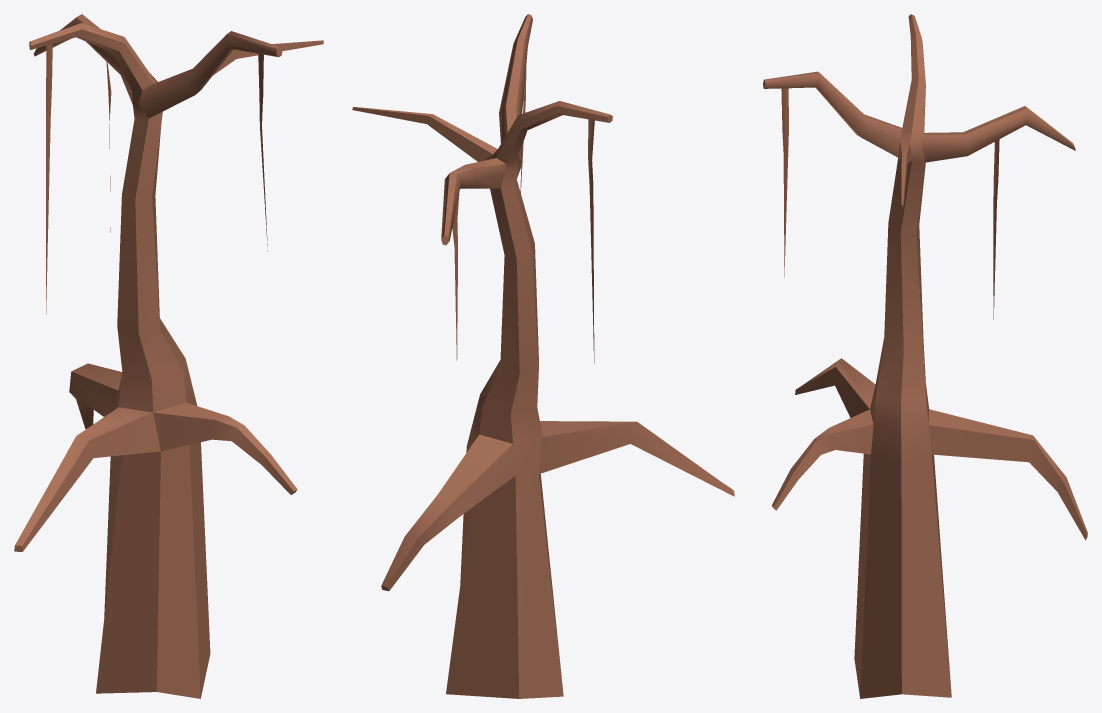
Rendered from mangrove.obj.
The picture shows the model from 3 angles, left to right: view 1: azimuth 30°, elevation 25°; view 2: azimuth 150°, elevation 25°; view 3: azimuth 270°, elevation 25°; orthographic projection. The views are drawn at different scales.
Visible parts, largest first — view 1: pCylinder3 mangrove, mangrove pPlane5, mangrove pPlane4; view 2: pCylinder3 mangrove, mangrove pPlane5; view 3: pCylinder3 mangrove, mangrove pPlane4, mangrove pPlane6.
Part boxes in pixels (x1=…): pCylinder3 mangrove: x1=14, y1=14, x2=323, y2=698; mangrove pPlane5: x1=46, y1=44, x2=52, y2=314; mangrove pPlane4: x1=258, y1=53, x2=267, y2=251; pCylinder3 mangrove: x1=352, y1=14, x2=734, y2=698; mangrove pPlane5: x1=588, y1=119, x2=594, y2=363; pCylinder3 mangrove: x1=763, y1=14, x2=1087, y2=698; mangrove pPlane4: x1=781, y1=88, x2=788, y2=277; mangrove pPlane6: x1=993, y1=139, x2=999, y2=319.
Bounding box in the file's own units: 6.77 × 12.08 × 5.64.
